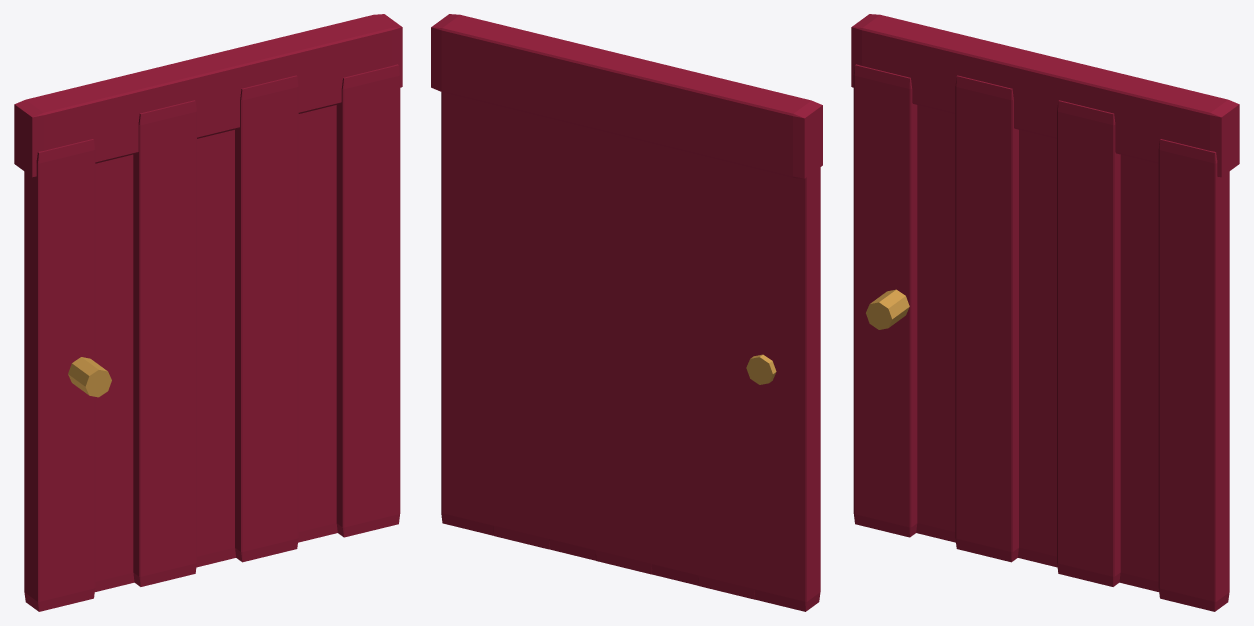
Rendered from curtain_right.glb.
3 renders of one model, left to right at view 1: azimuth 30°, elevation 25°; view 2: azimuth 150°, elevation 25°; view 3: azimuth 330°, elevation 25°, orthographic.
Parts seen in each view (by area): view 1: right_fold_0, right_fold_4, right_fold_2, right_fold_6, right_valance, right_fold_5, right_fold_1, right_fold_3, right_tie; view 2: right_valance, right_fold_0, right_fold_5, right_fold_6, right_fold_3, right_fold_1, right_fold_2, right_fold_4, right_tie; view 3: right_fold_6, right_fold_2, right_fold_4, right_fold_0, right_valance, right_fold_1, right_fold_5, right_fold_3, right_tie.
Part boxes in pixels (left/top/right/bottom): right_fold_0: left=24, top=139, right=95, bottom=611; right_fold_4: left=235, top=75, right=298, bottom=562; right_fold_2: left=133, top=100, right=196, bottom=586; right_fold_6: left=336, top=64, right=400, bottom=537; right_valance: left=14, top=14, right=402, bottom=177; right_fold_5: left=298, top=105, right=337, bottom=542; right_fold_1: left=95, top=154, right=134, bottom=591; right_fold_3: left=196, top=130, right=235, bottom=567; right_tie: left=68, top=357, right=111, bottom=397; right_valance: left=431, top=14, right=822, bottom=178; right_fold_0: left=750, top=167, right=820, bottom=611; right_fold_5: left=493, top=105, right=549, bottom=549; right_fold_6: left=441, top=92, right=497, bottom=535; right_fold_3: left=595, top=130, right=652, bottom=574; right_fold_1: left=698, top=155, right=754, bottom=599; right_fold_2: left=647, top=142, right=702, bottom=585; right_fold_4: left=544, top=118, right=600, bottom=560; right_tie: left=746, top=354, right=776, bottom=384; right_fold_6: left=1158, top=139, right=1229, bottom=611; right_fold_2: left=955, top=75, right=1018, bottom=562; right_fold_4: left=1057, top=100, right=1120, bottom=586; right_fold_0: left=853, top=64, right=917, bottom=537; right_valance: left=851, top=14, right=1239, bottom=177; right_fold_1: left=916, top=105, right=955, bottom=542; right_fold_5: left=1119, top=154, right=1158, bottom=591; right_fold_3: left=1018, top=130, right=1057, bottom=567; right_tie: left=866, top=289, right=909, bottom=329.
Bounding box in the file's own units: 3.35 × 4.29 × 0.595.
